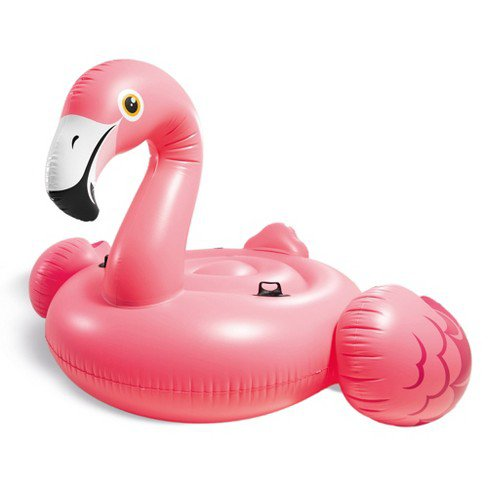Flamingo: (25, 57, 473, 435)
